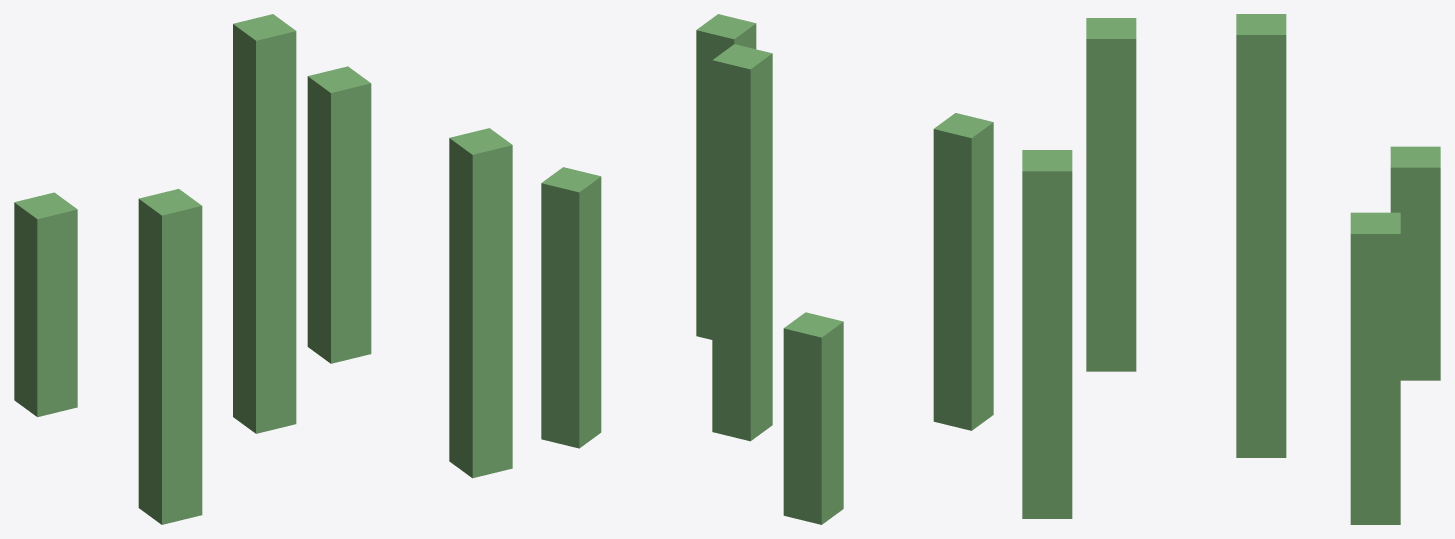
File: Grass.glb
The picture shows the model from 3 angles, left to right: view 1: azimuth 30°, elevation 25°; view 2: azimuth 150°, elevation 25°; view 3: azimuth 270°, elevation 25°; orthographic projection. The views are drawn at different scales.
Visible parts, largest first — view 1: Grass; view 2: Grass; view 3: Grass.
Part boxes in pixels (x1,y1,x2,y2): Grass: (14, 14, 512, 524); Grass: (541, 14, 993, 524); Grass: (1022, 14, 1440, 524).
Size of the model in its own units: 0.1648 by 0.1864 by 0.1673.
Materials: 1 (1 with a texture image).
